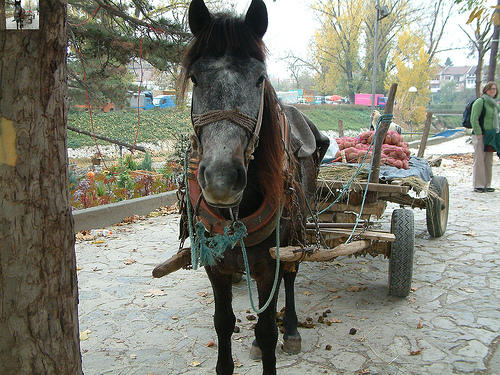horse: (177, 0, 330, 375)
